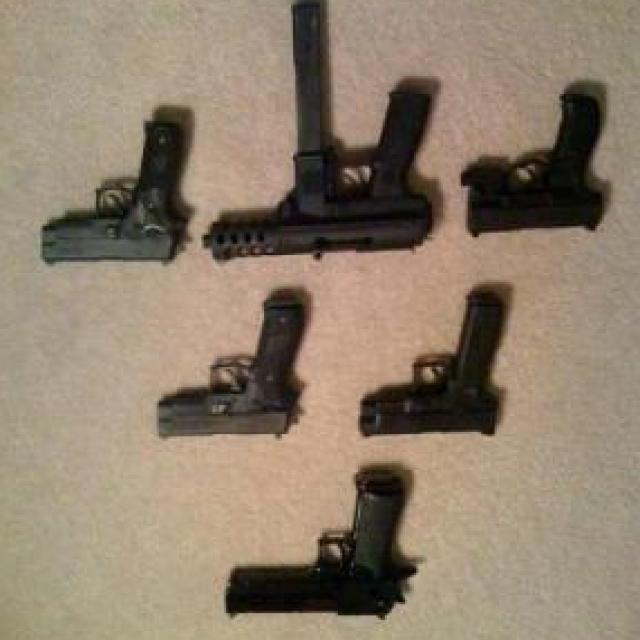pistol: (223, 473, 420, 622), (356, 293, 509, 439), (464, 88, 606, 242), (157, 298, 306, 443), (43, 123, 189, 269)
